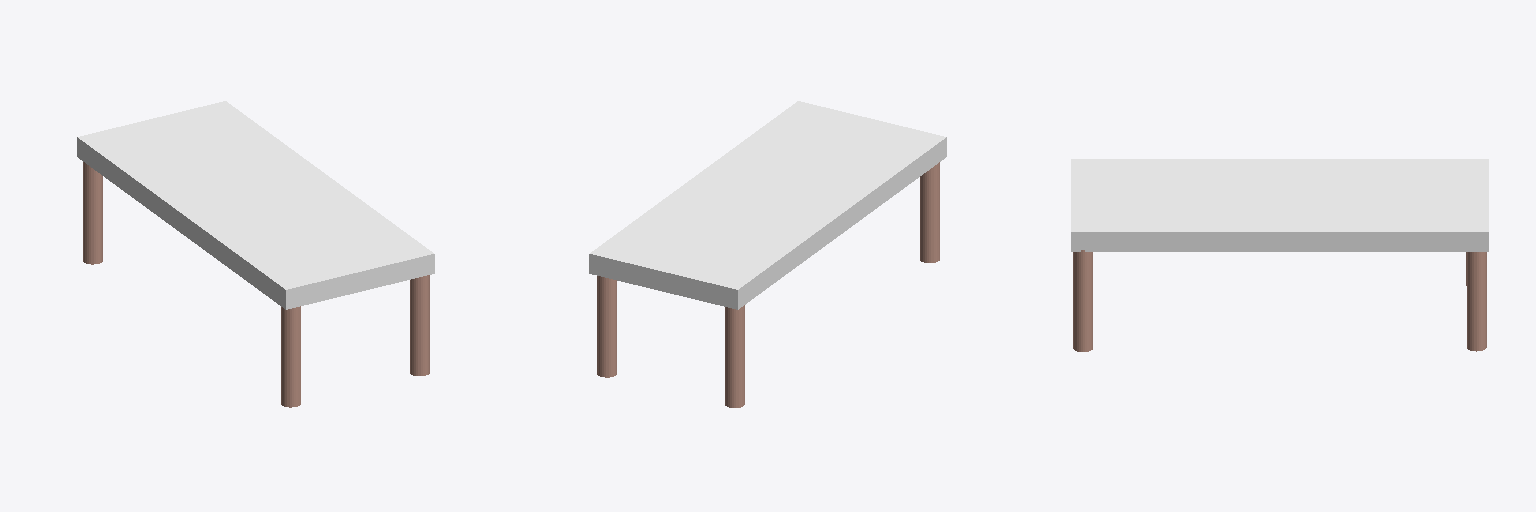
Rendered from Table.obj.
3 views of the same model, side by side, from view 1: azimuth 30°, elevation 25°; view 2: azimuth 150°, elevation 25°; view 3: azimuth 270°, elevation 25° (orthographic).
Visible parts, largest first — view 1: Table; view 2: Table; view 3: Table.
Boxes of the visible parts, x1,y1,x2,y2 form: Table: [77, 101, 434, 407]; Table: [589, 101, 946, 407]; Table: [1071, 159, 1488, 351].
Size of the model in its own units: 0.263 by 0.2048 by 0.6392.